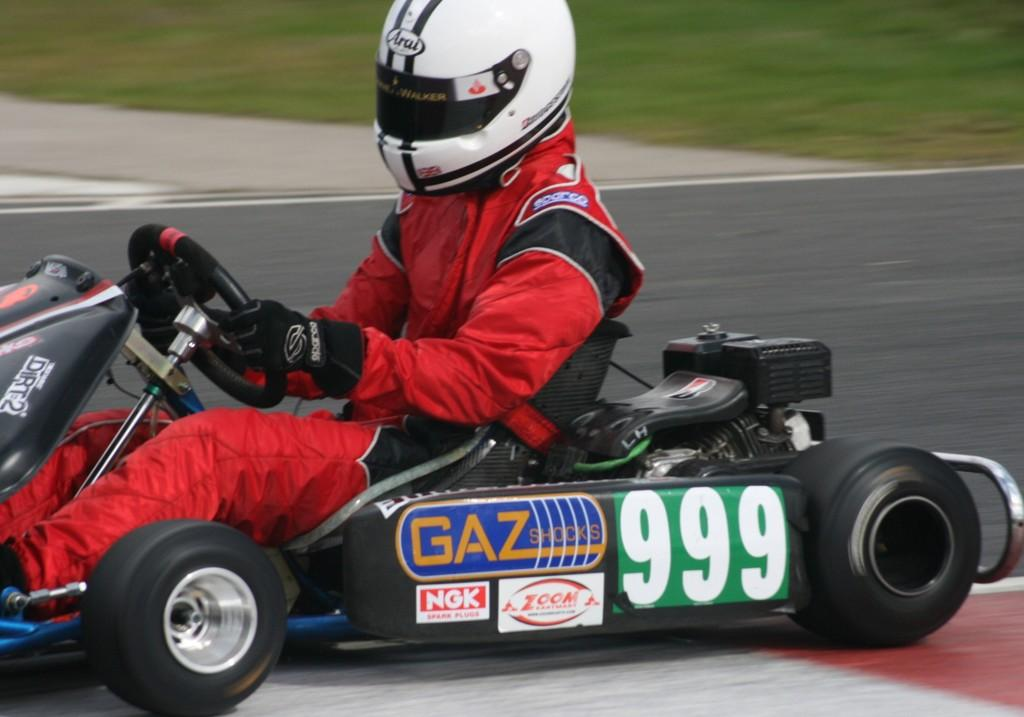helmet: (373, 0, 576, 196)
